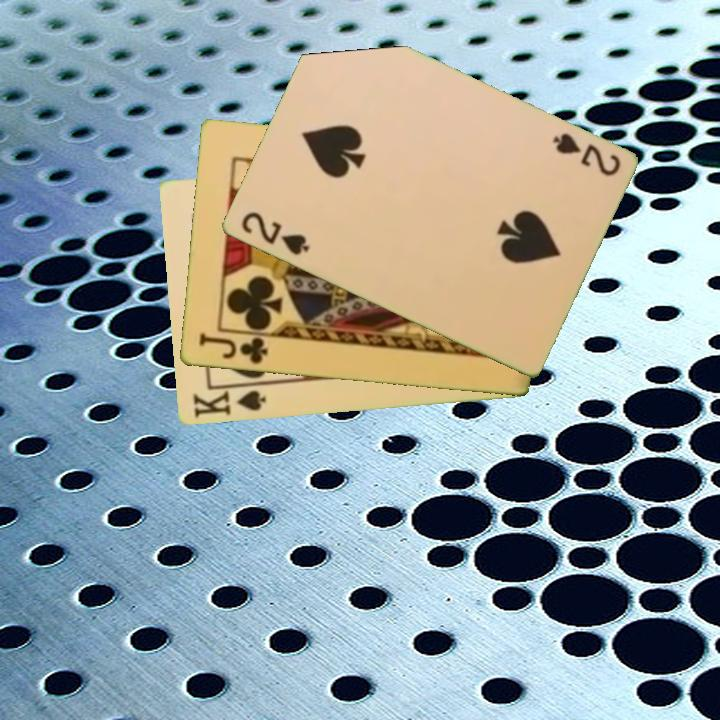2s: (237, 208, 312, 259), (548, 129, 623, 180)
Jc: (194, 330, 270, 368)
Ks: (189, 381, 269, 421)
